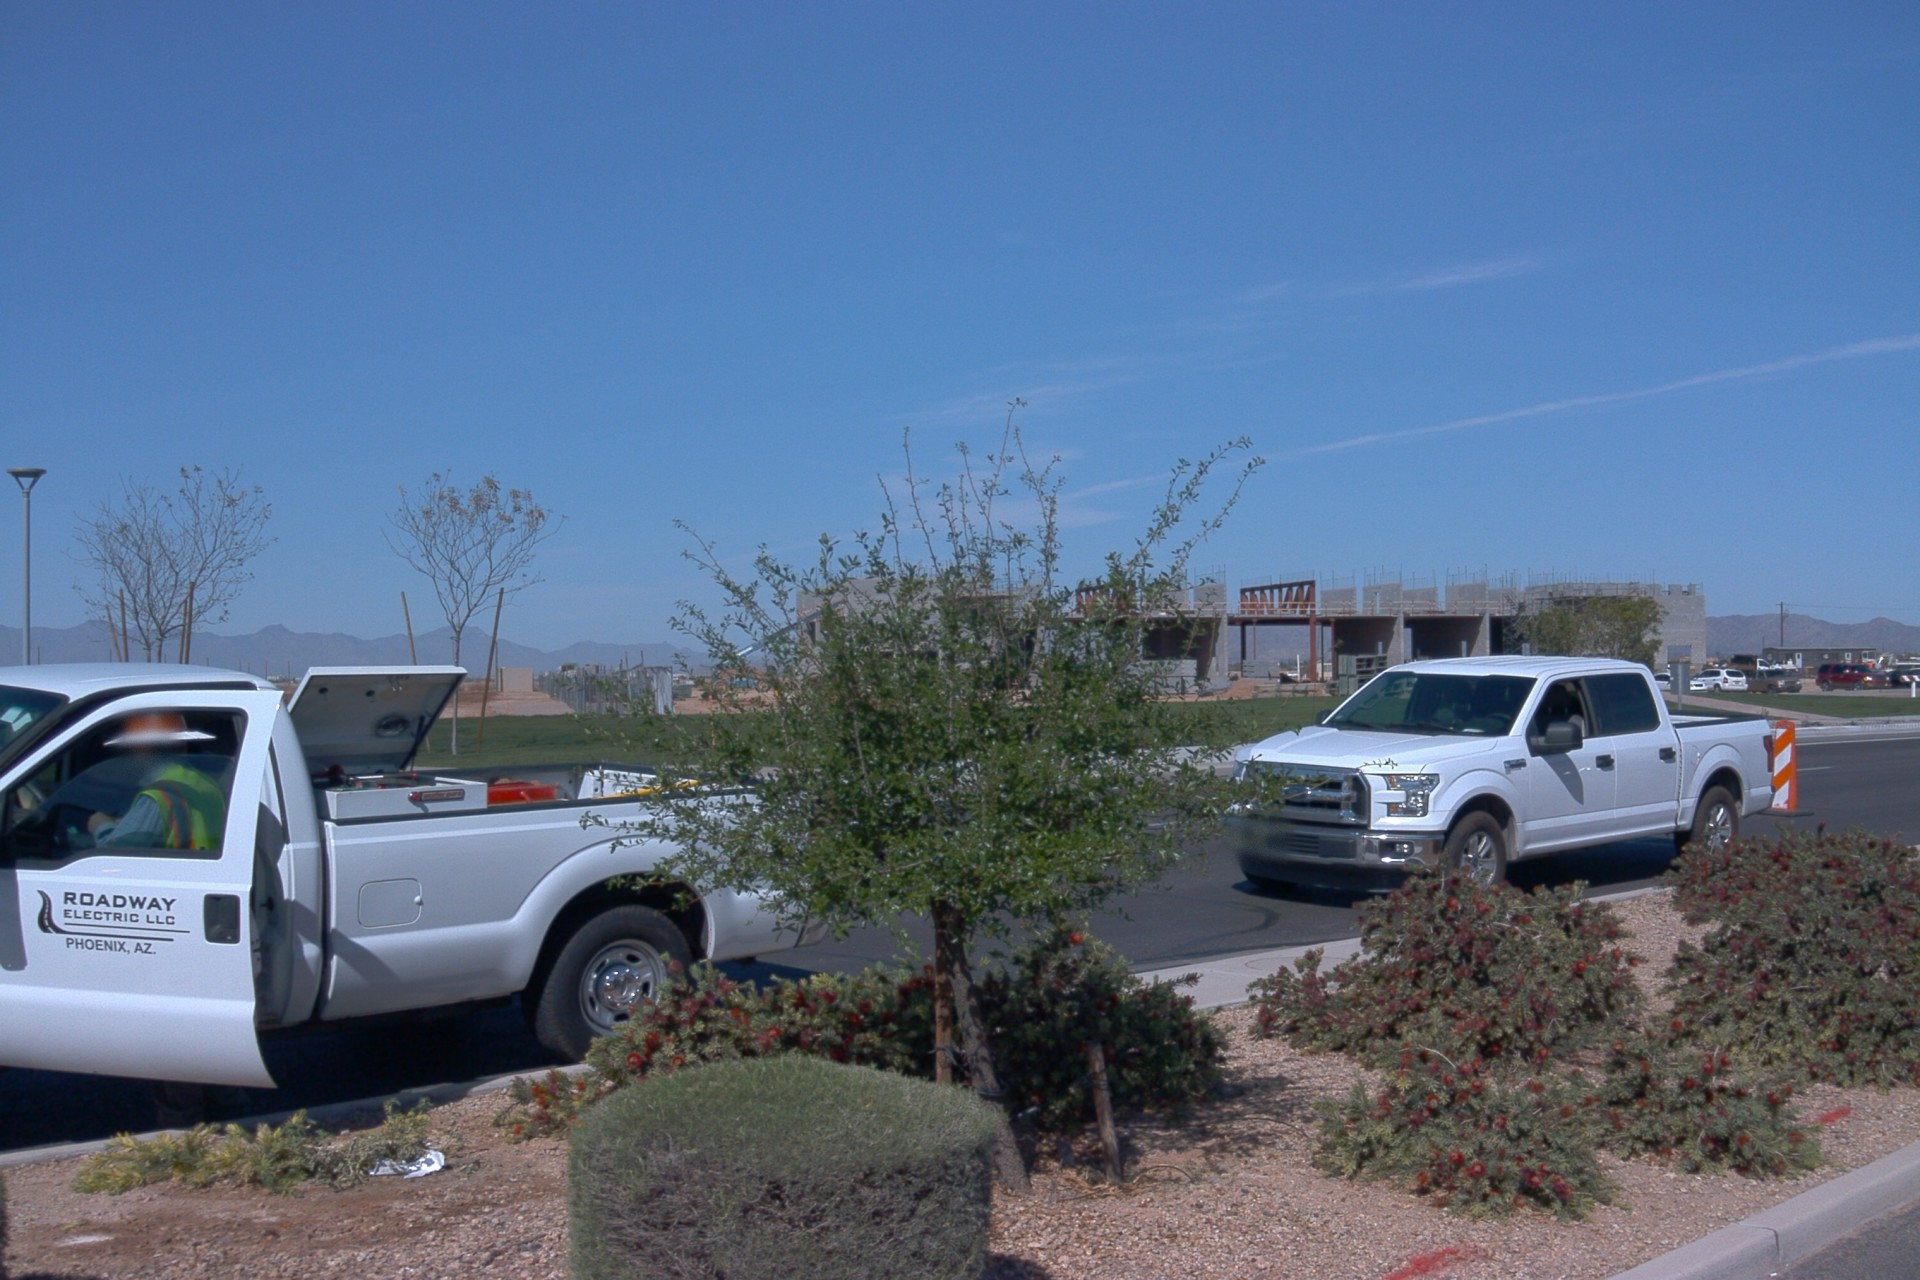TYPE_PEDESTRIAN: (103, 705, 219, 1127)
TYPE_VEHICLE: (0, 651, 841, 1101), (1218, 651, 1777, 904), (715, 598, 849, 699), (1815, 665, 1893, 699), (1740, 671, 1804, 695), (1689, 671, 1747, 693), (1654, 673, 1711, 693), (1727, 661, 1781, 677), (1911, 652, 1920, 668)
